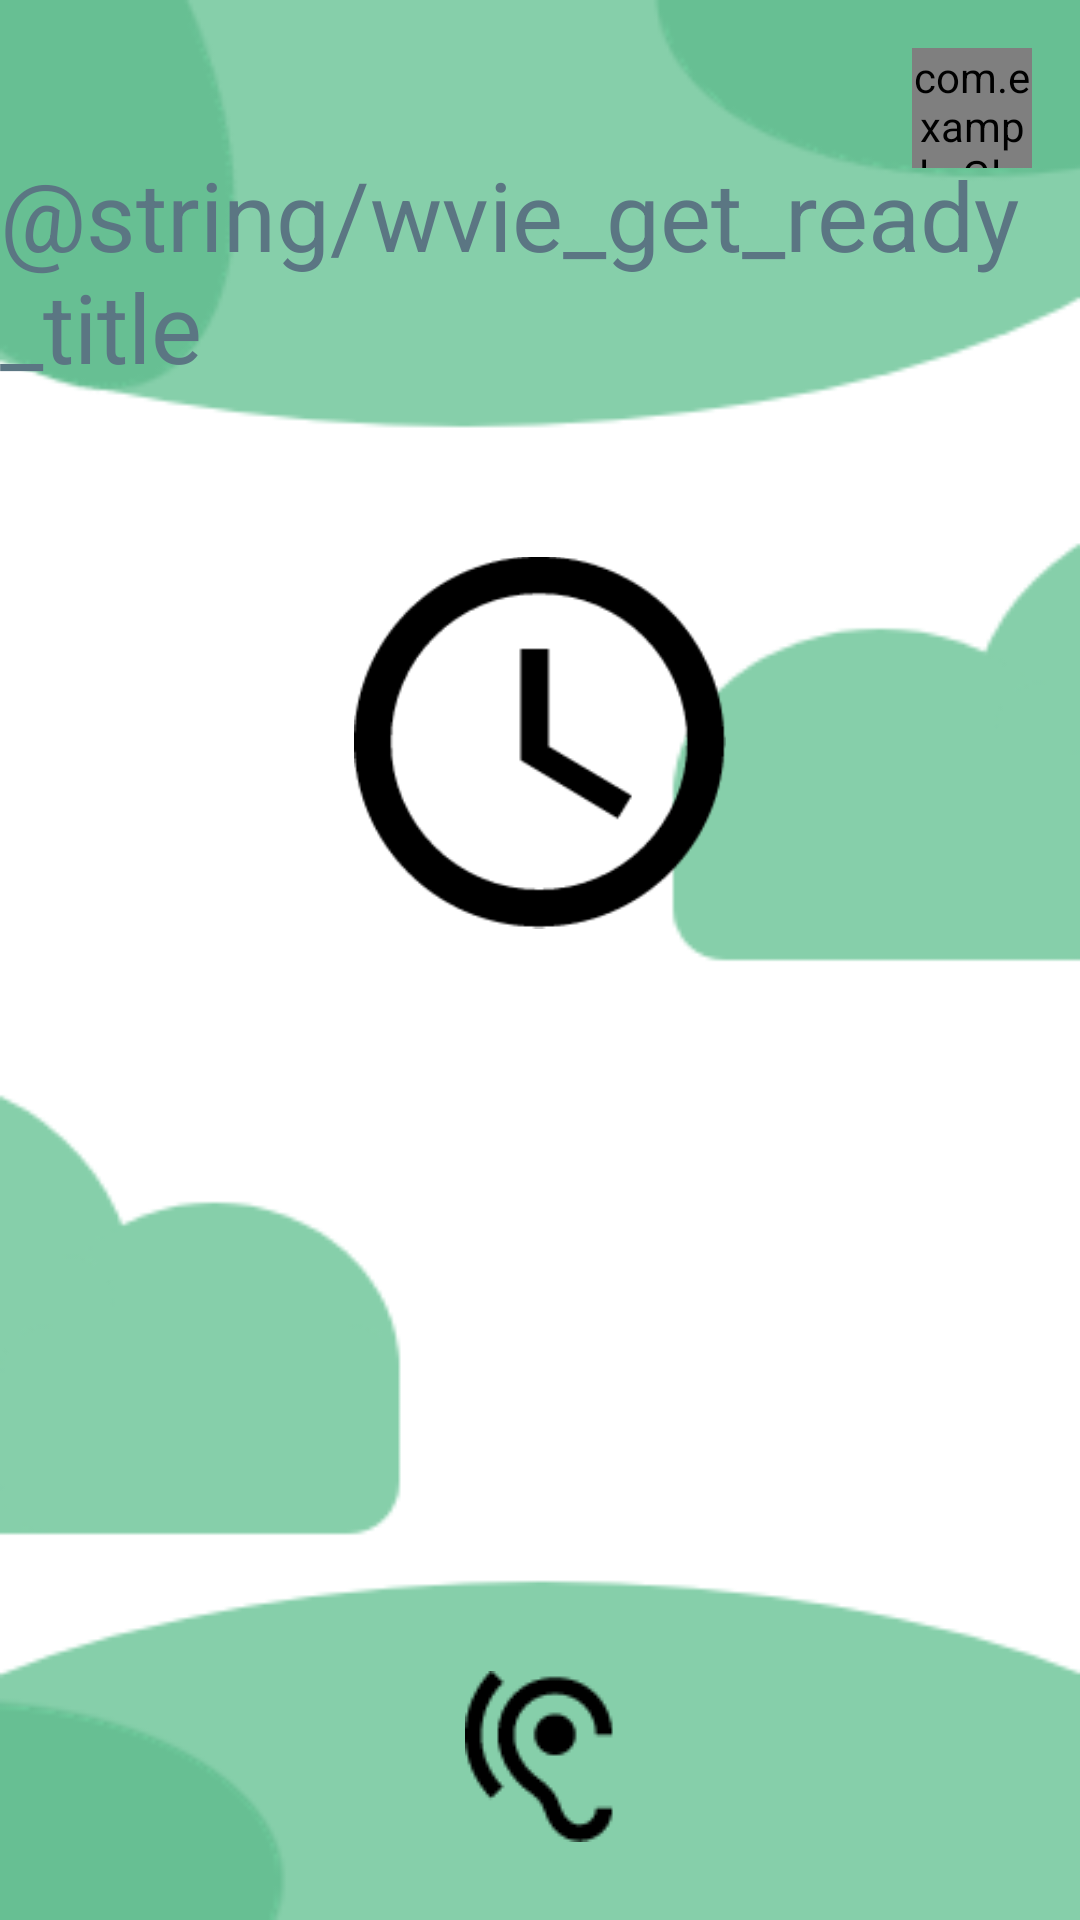

Icon click points for this 1080px×1920px phone screenshot, format (x,y):
pictogram oortje: (539,1756)
